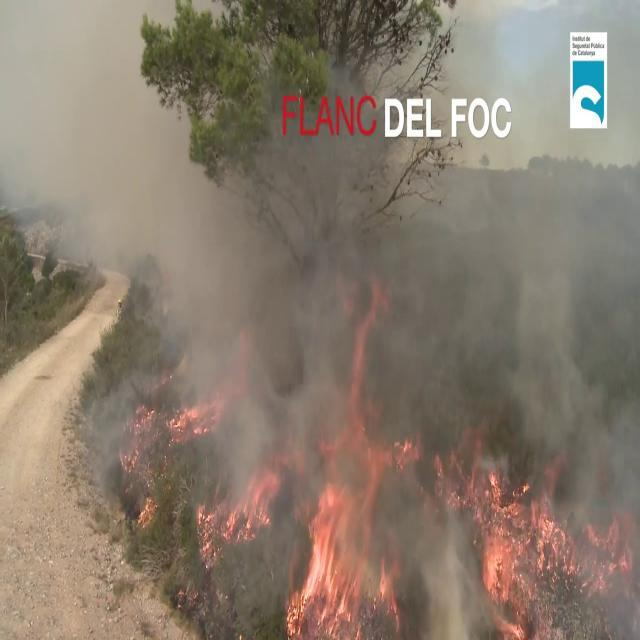Fire: (282, 456, 402, 636), (472, 456, 574, 633), (196, 460, 283, 560), (581, 502, 639, 613), (167, 388, 225, 443)
Smoke: (120, 19, 640, 583)
